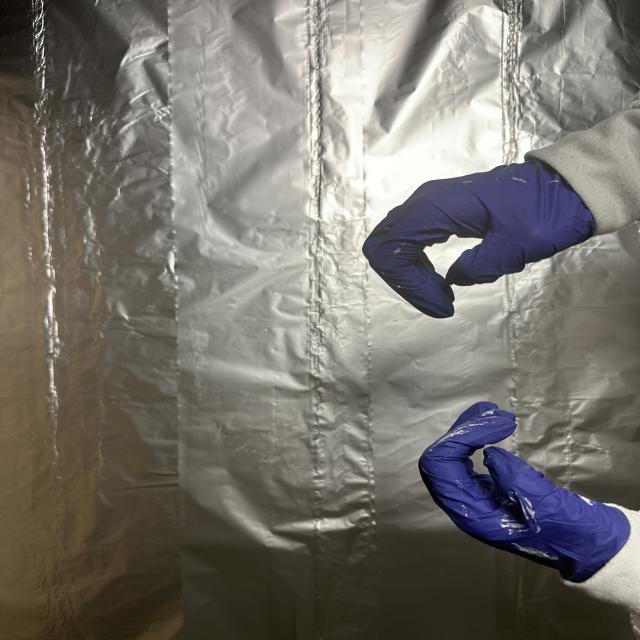gloves_contaminated: (419, 403, 630, 582), (364, 161, 595, 317)
